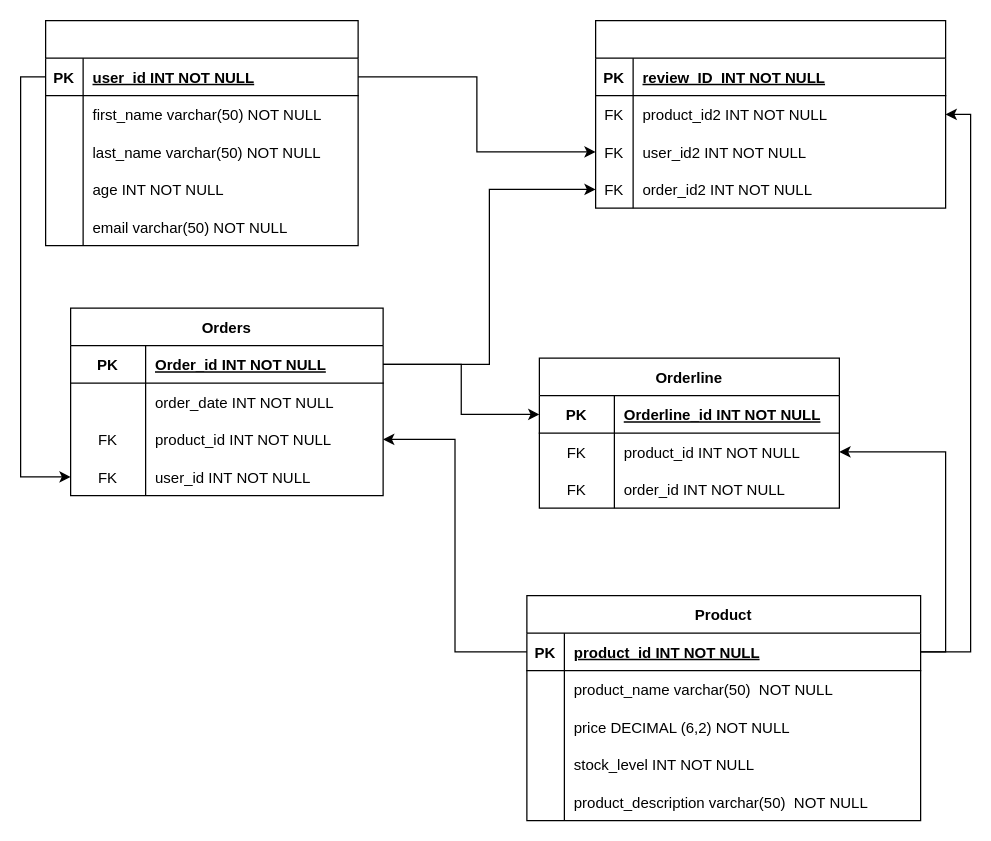
The diagram is 991 pixels wide and 841 high, and some of its shapes have lost their labels. Each missing label, with the box of its shape:
Reviews: (594, 19, 946, 208)
Users: (44, 19, 358, 246)
